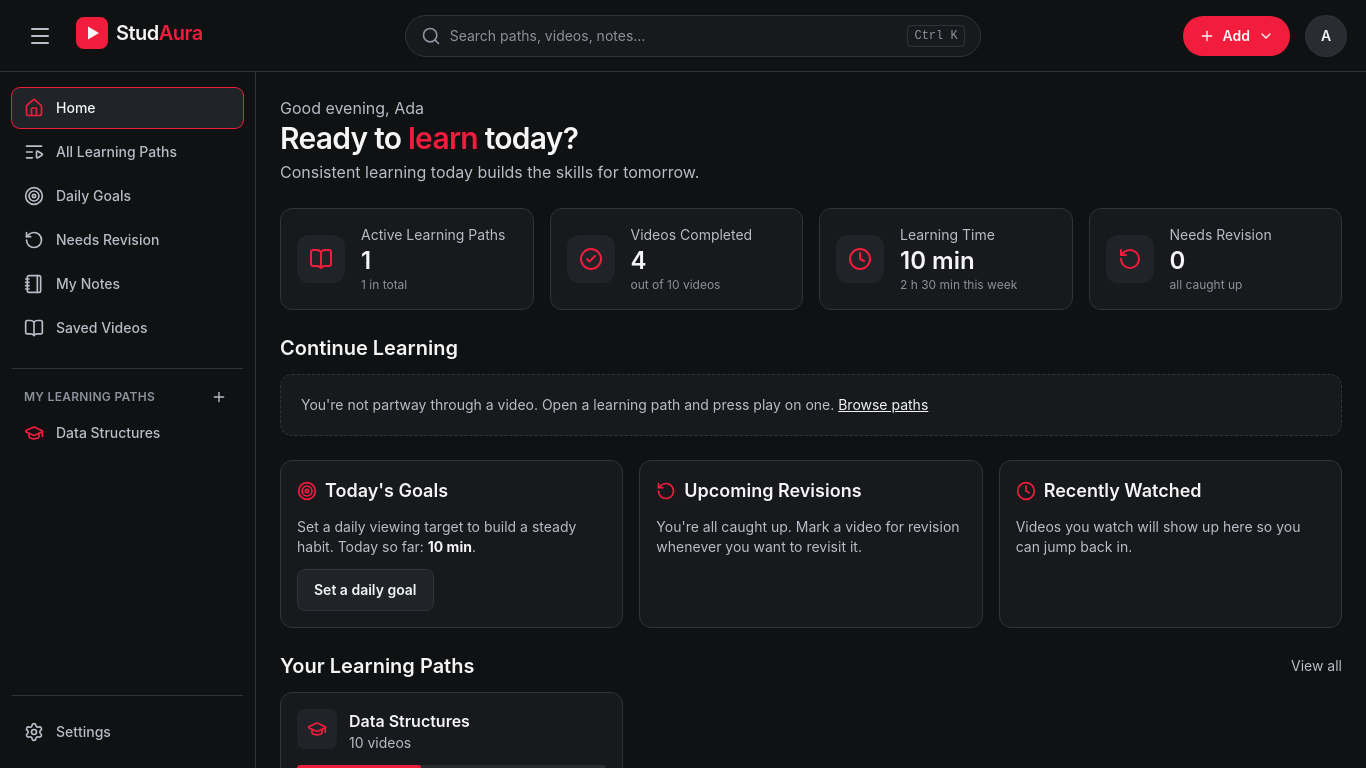
today's goal on the dashboard › sets a goal and shows it straight away
This screenshot has width=1366, height=768.
Click the button "Set a daily goal" at point(365, 590), box 297,569 -> 434,611
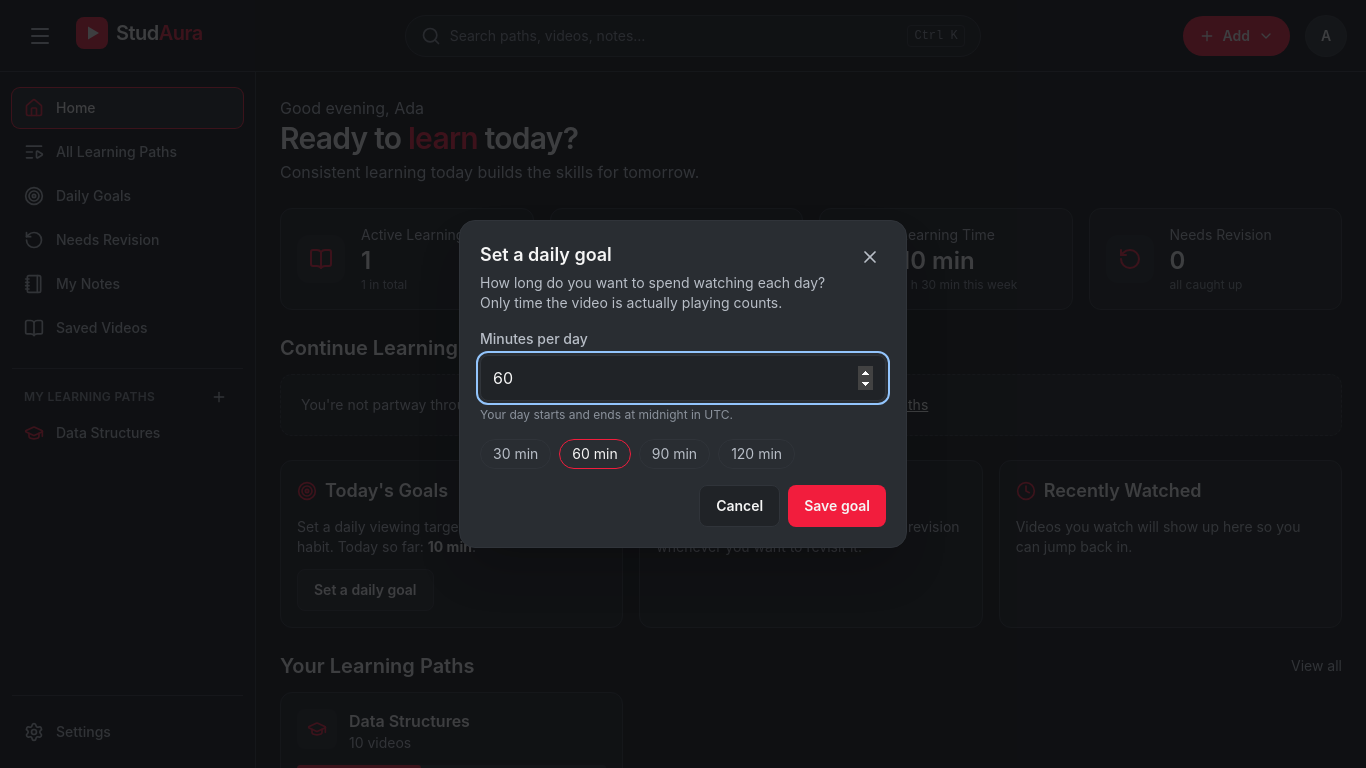
Expected: the number field labelled "Minutes per day" holds "60"
Replace the text in the number field labelled "Minutes per day" with "45" at point(683, 378), box 480,355 -> 886,401
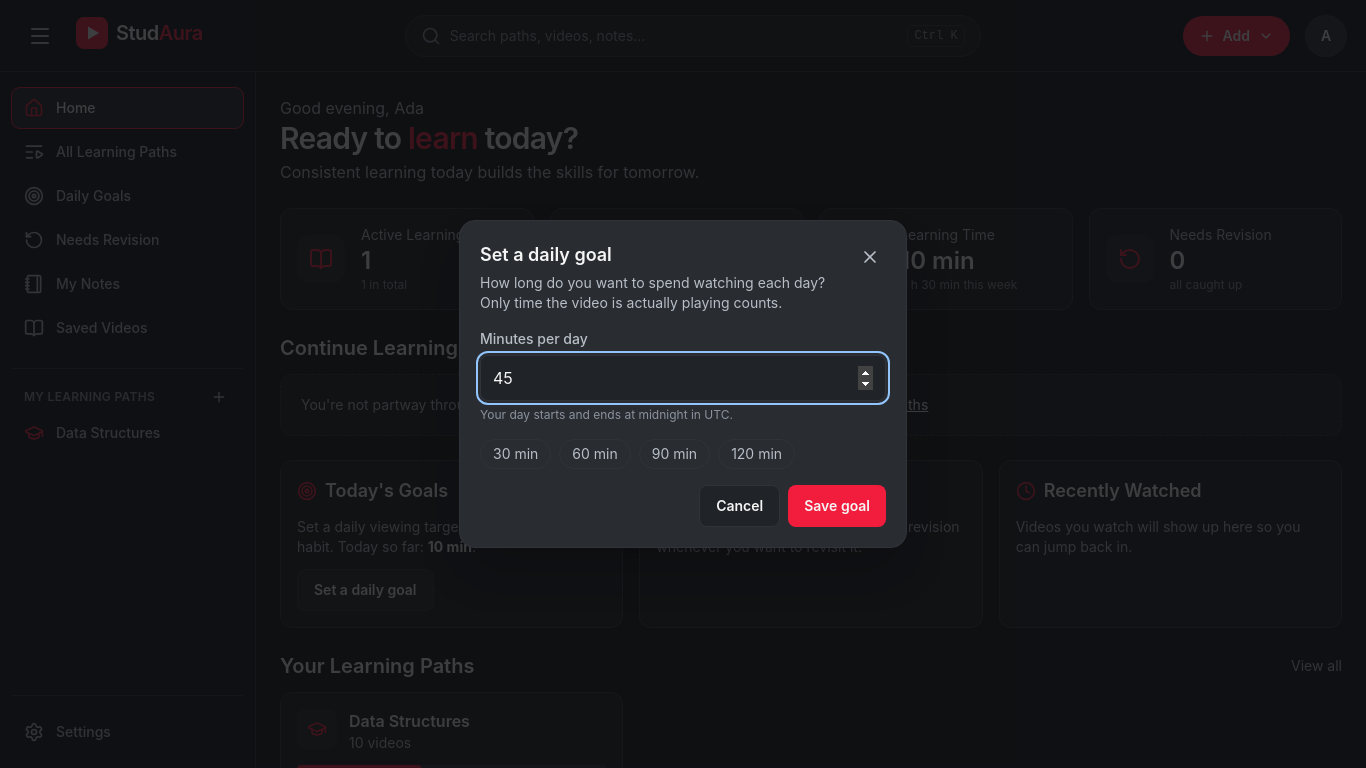
Click the button "Save goal" at point(837, 506), box 788,485 -> 886,527
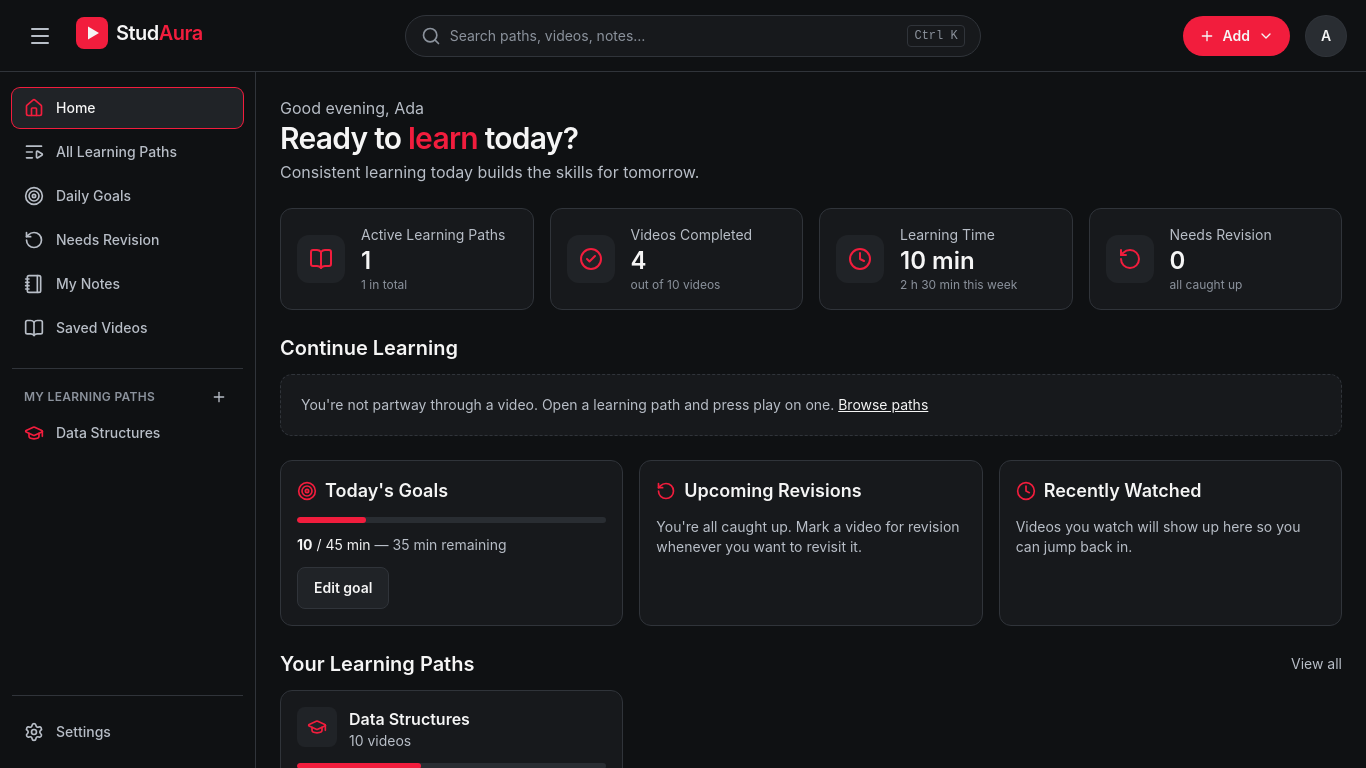
Expected: the dialog is gone
Expected: the text "— 35 min remaining" is shown, 371,536 -> 506,553
